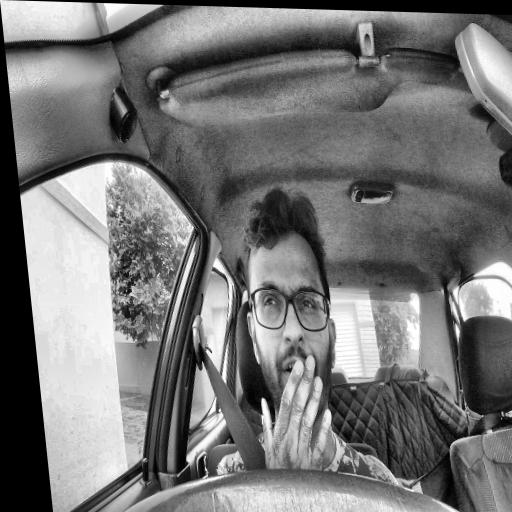awake: (232, 186, 345, 430)
